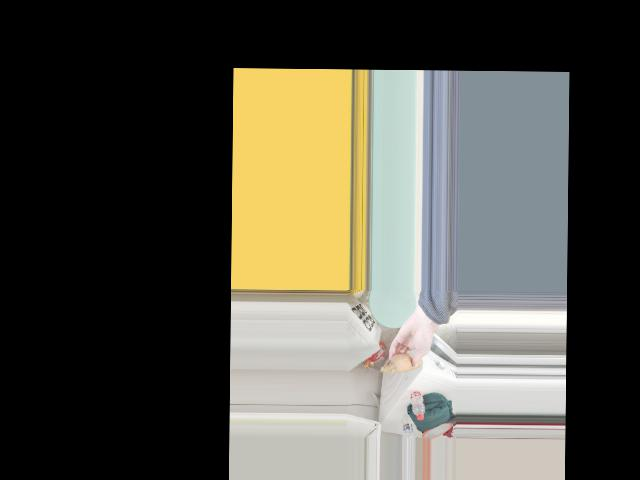sweet_potato: (388, 355, 420, 373)
